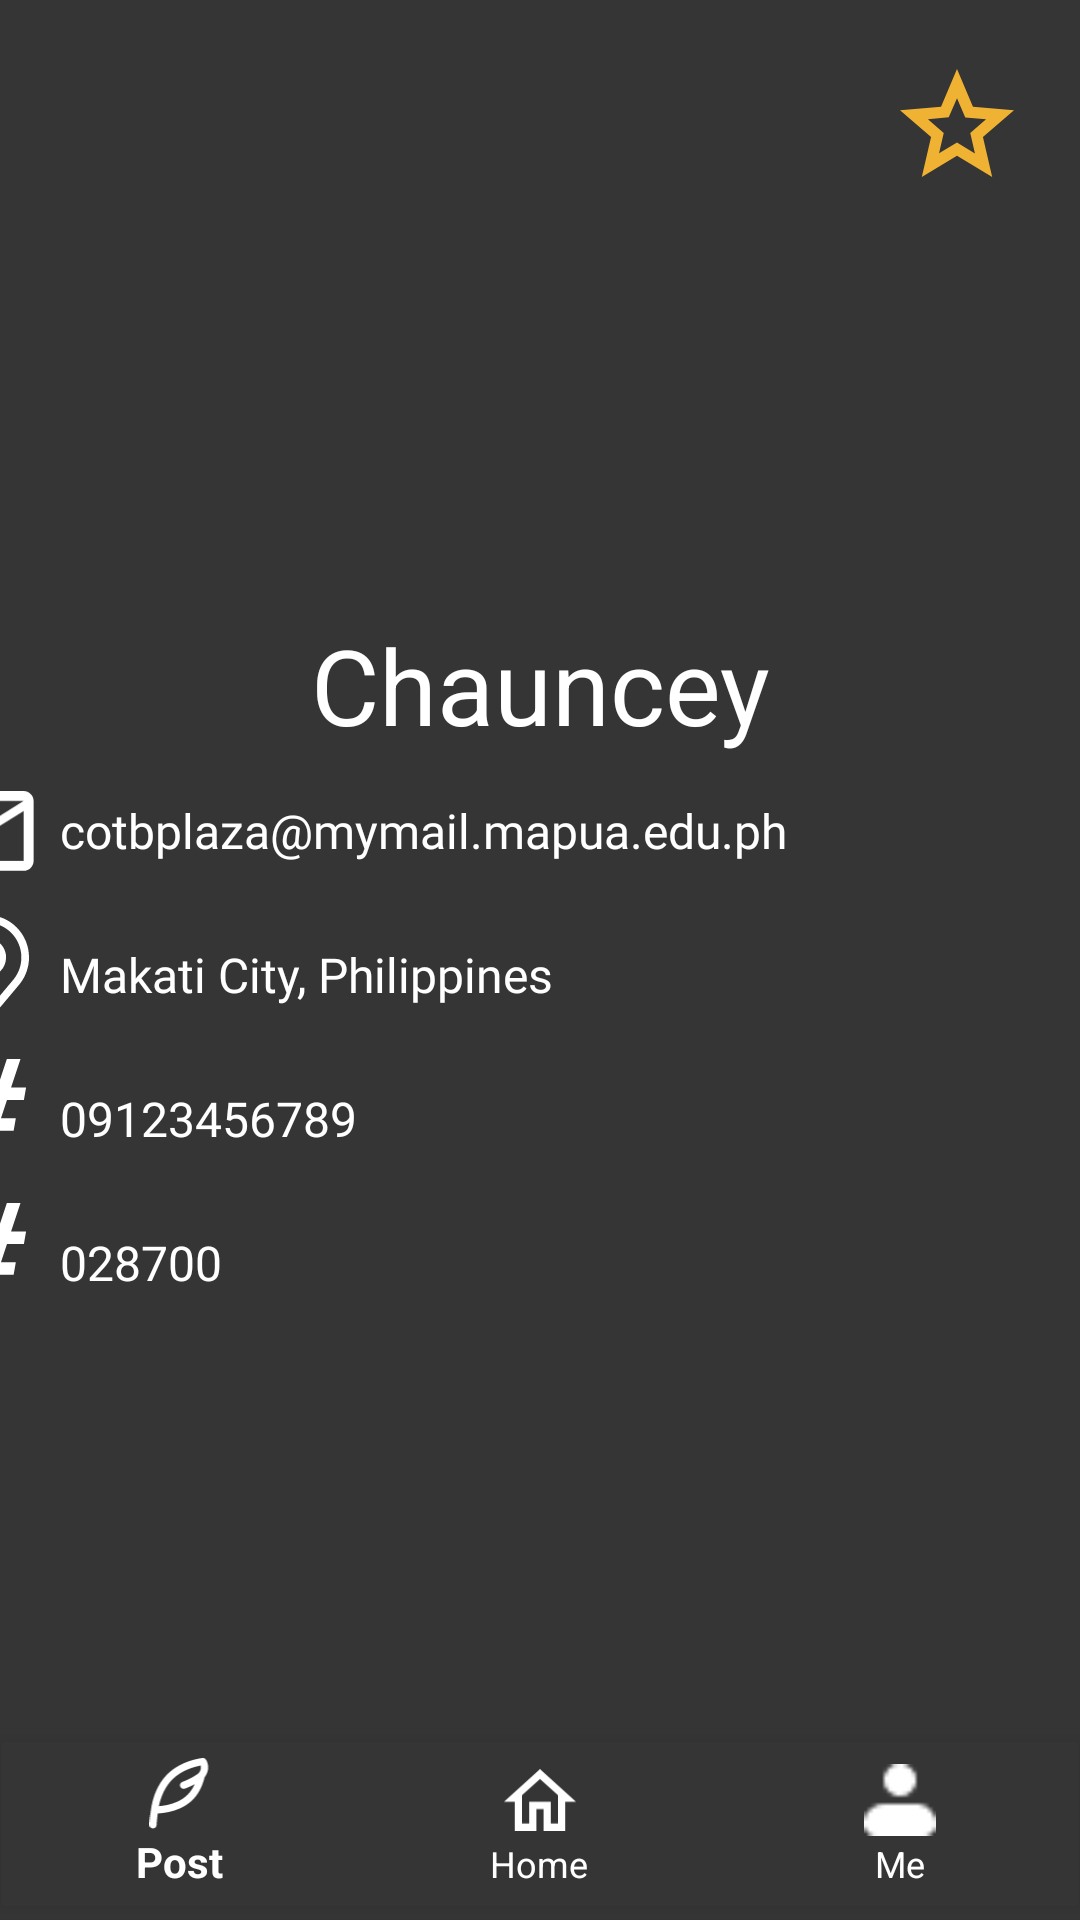

Screen size 1080x1920. Icon name, then its box in pixels as (x1, y1, x2, y2):
star unfilled: (900, 69, 1014, 177)
